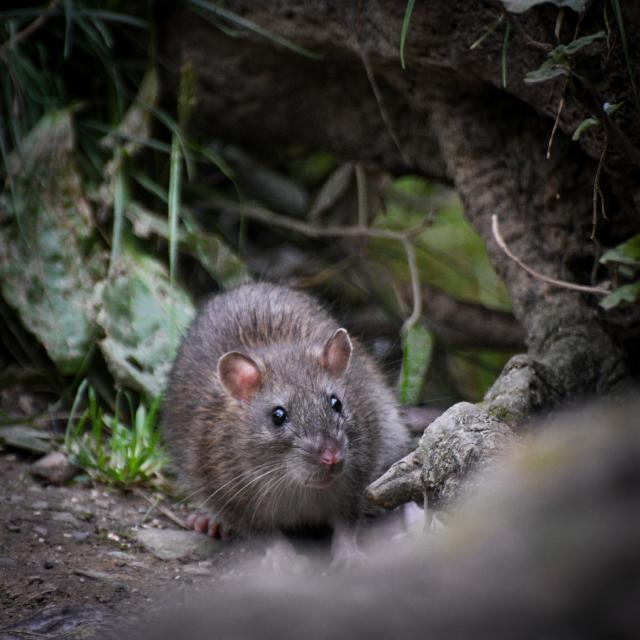rat: (165, 283, 399, 529)
